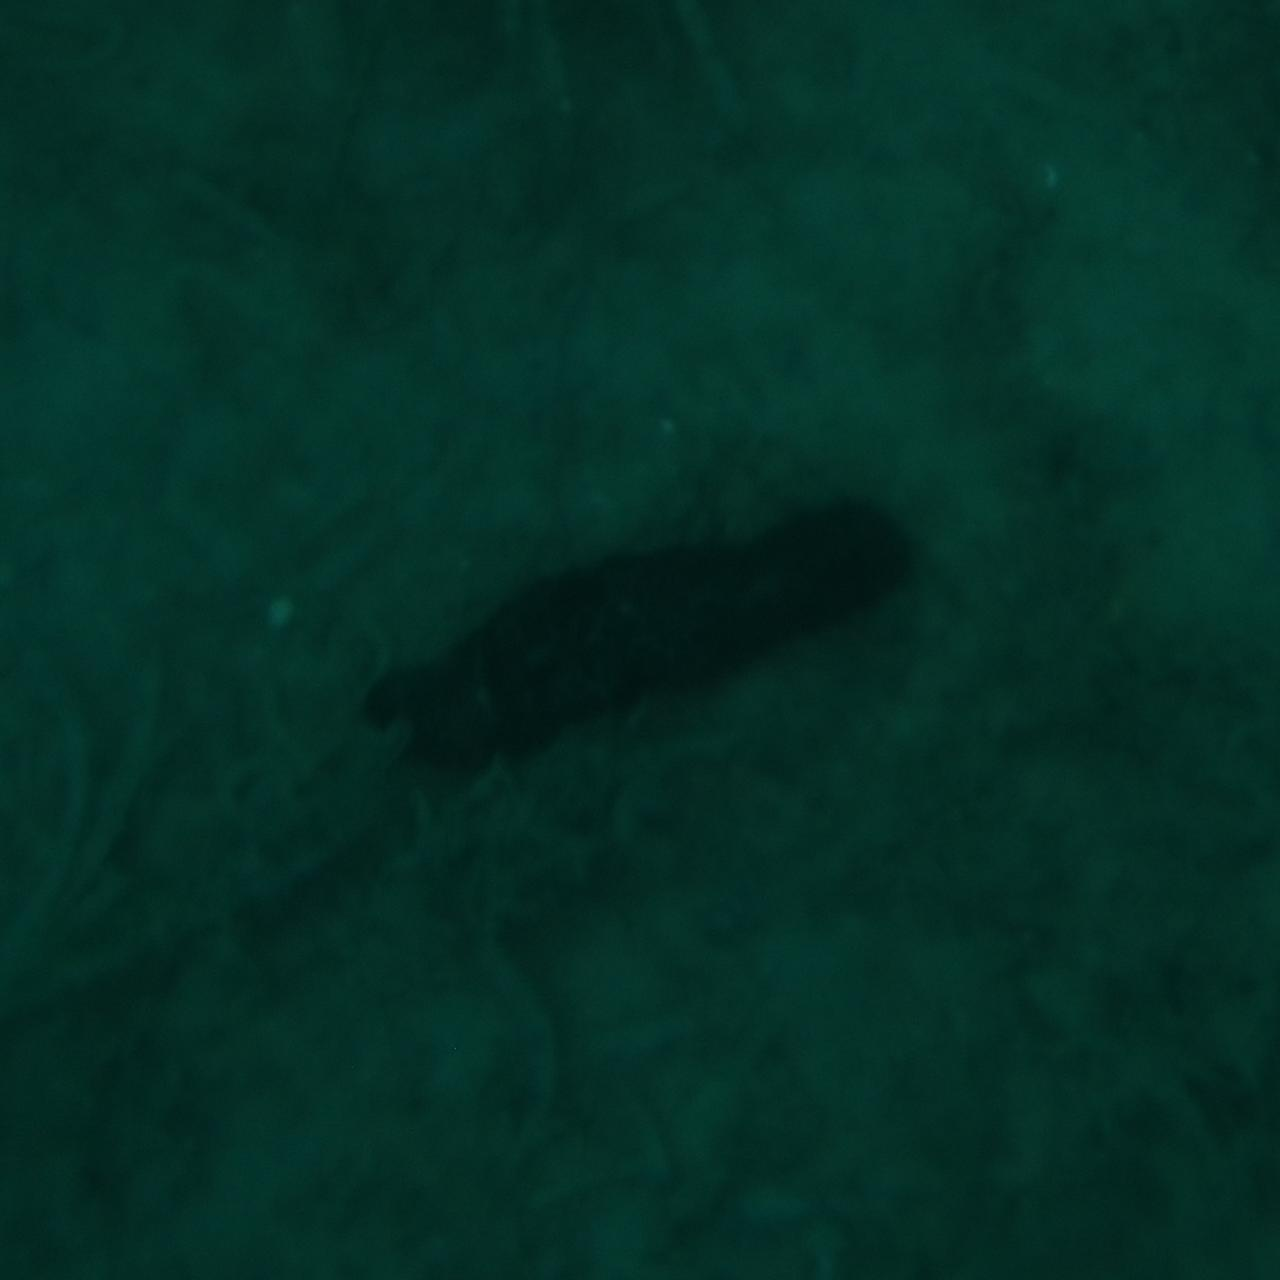Holothuria tubulosa: (340, 477, 940, 803)
